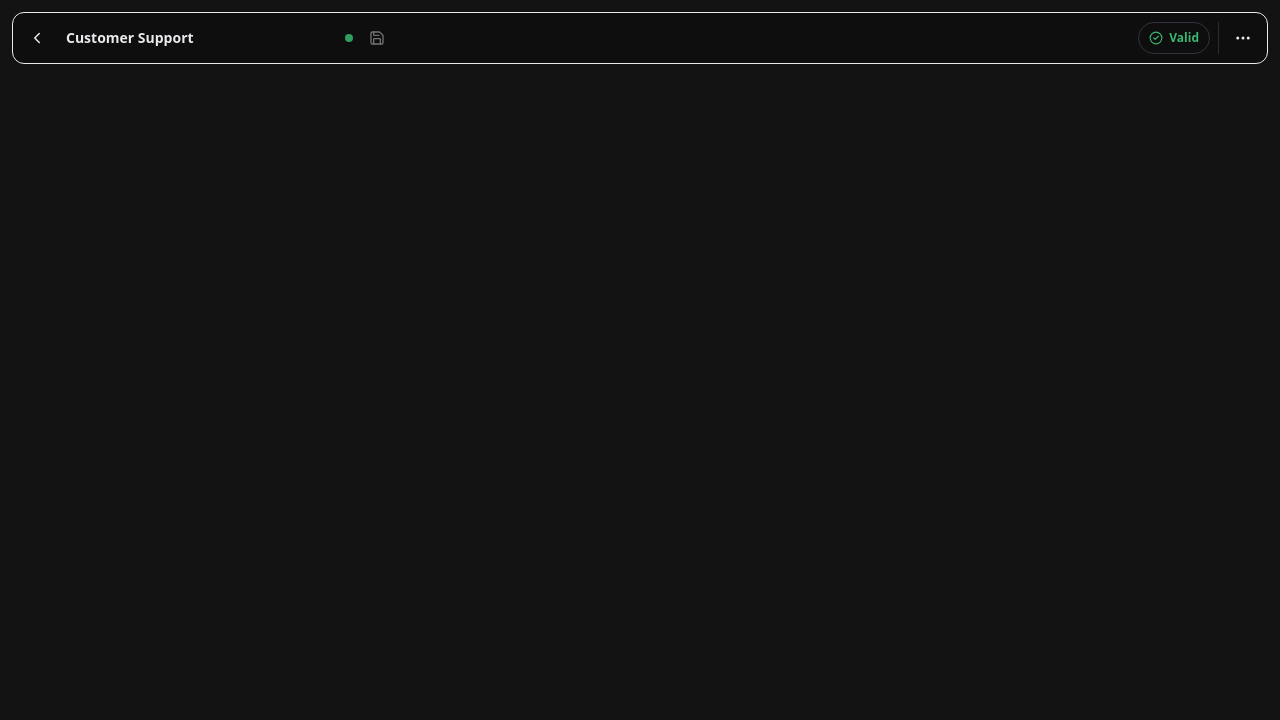
Test: GraphHeader › moves the structure summary into the overflow menu when compact
Check: the field labelled "8 nodes · 8 edges" is not shown
Click the button named "More actions" at coordinates (1243, 38), box [1227,22,1259,54]
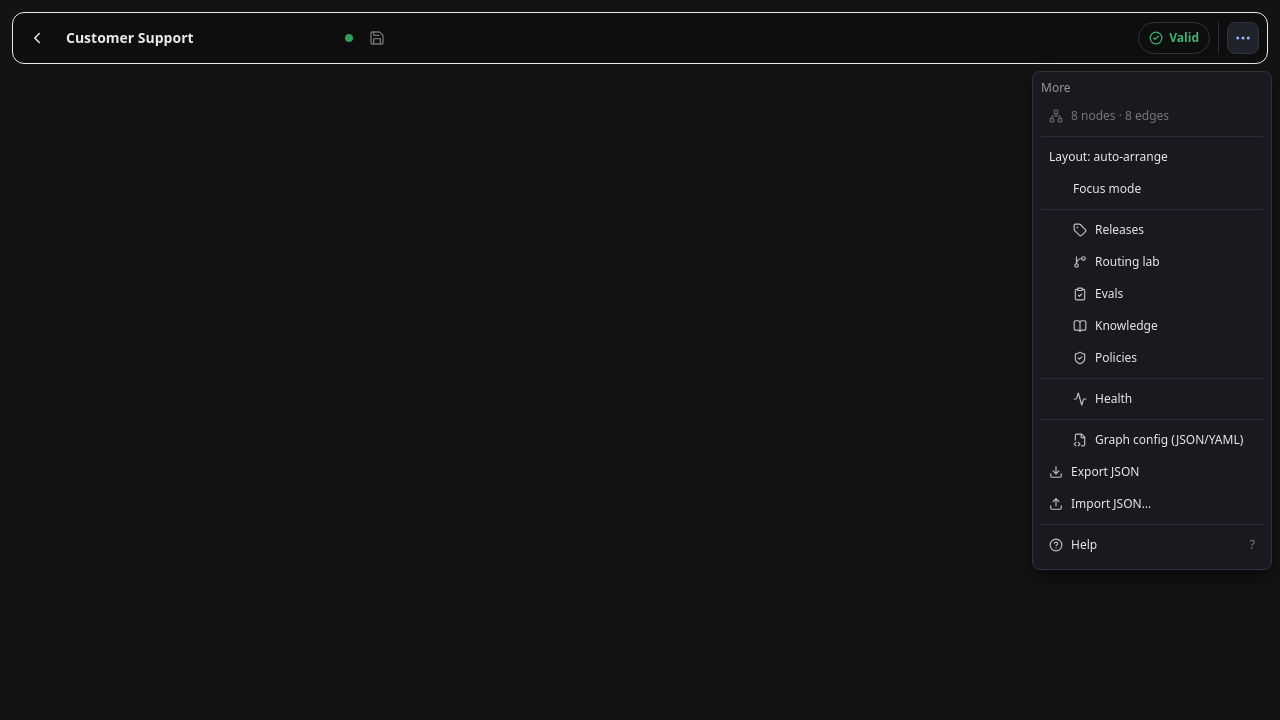
Check: the text "8 nodes · 8 edges" is shown, box [1071,107,1169,124]
